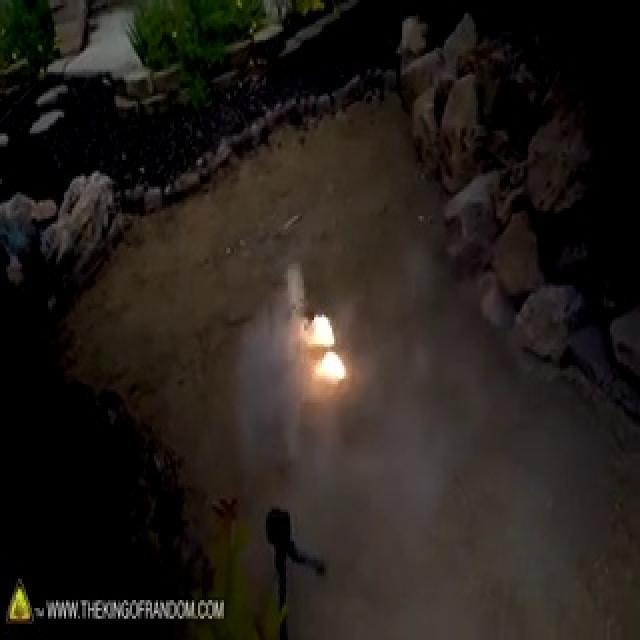fire: (313, 272, 353, 370)
